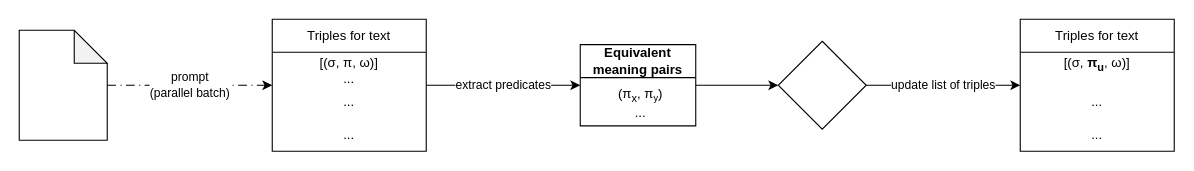
Some shapes in this 1194 by 171 pixel diagram are drawn without their labels. The shapes that lost their labels are listed below. From the top down, each one's box as (x1, y1, x2, y2) in pixels, then its label:
(18, 29, 107, 140): reference texts
(777, 40, 866, 129): any pair exists?
